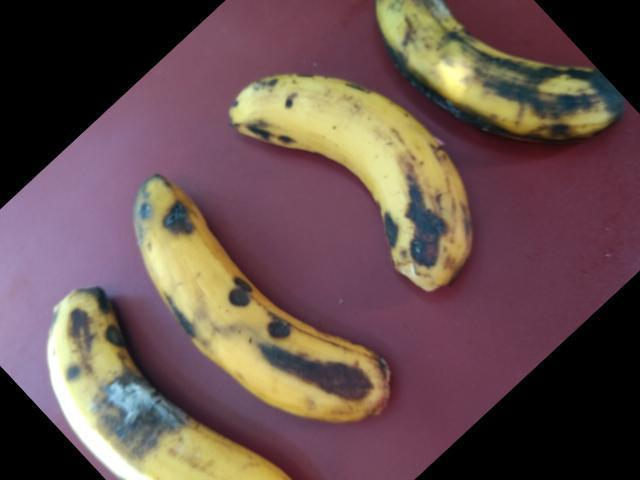overripe: (120, 165, 392, 442), (219, 59, 484, 296)
rotten: (30, 290, 271, 479), (361, 0, 622, 165)
